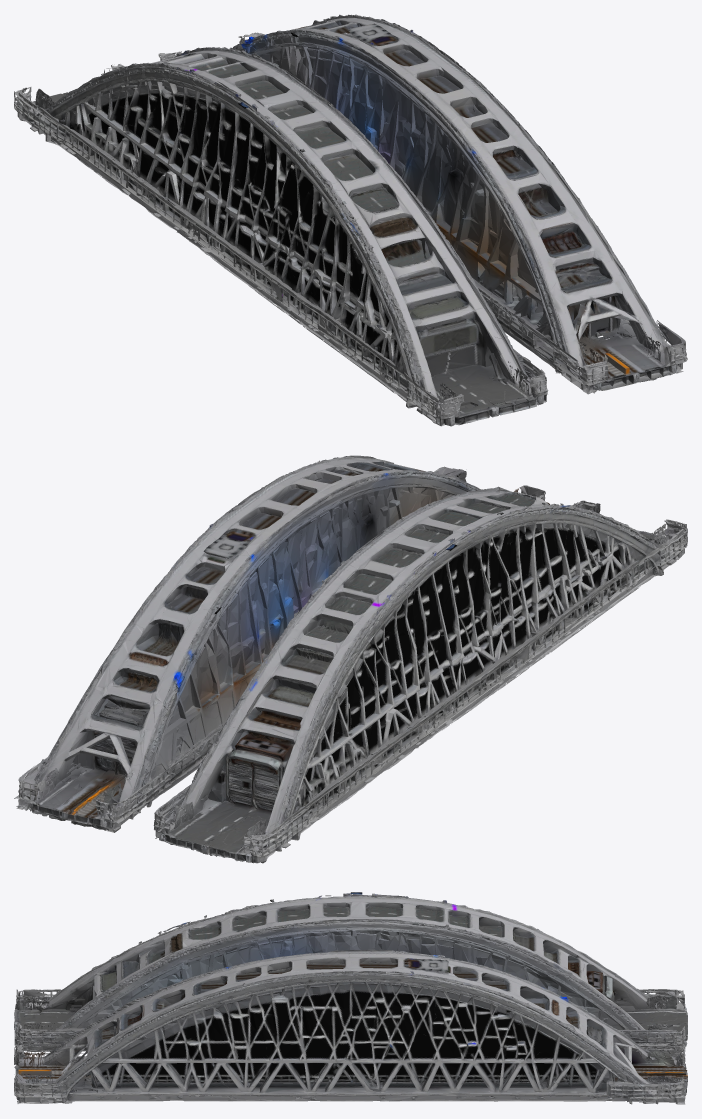
The picture shows the model from 3 angles, top to bottom: view 1: azimuth 30°, elevation 25°; view 2: azimuth 150°, elevation 25°; view 3: azimuth 270°, elevation 25°; orthographic projection. The views are drawn at different scales.
Visible parts, largest first — view 1: world; view 2: world; view 3: world.
Part boxes in pixels (x1=…): world: x1=14, y1=14, x2=687, y2=426; world: x1=14, y1=455, x2=687, y2=863; world: x1=14, y1=892, x2=687, y2=1104.
Bounding box in the file's own units: 0.3387 × 0.2115 × 0.9999.
Materials: 1 (1 with a texture image).
